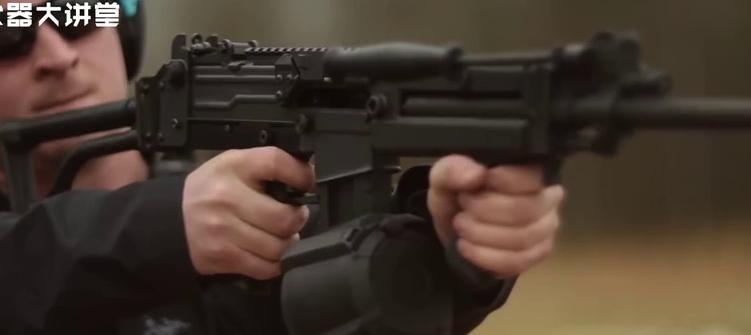gun: (1, 1, 751, 335)
